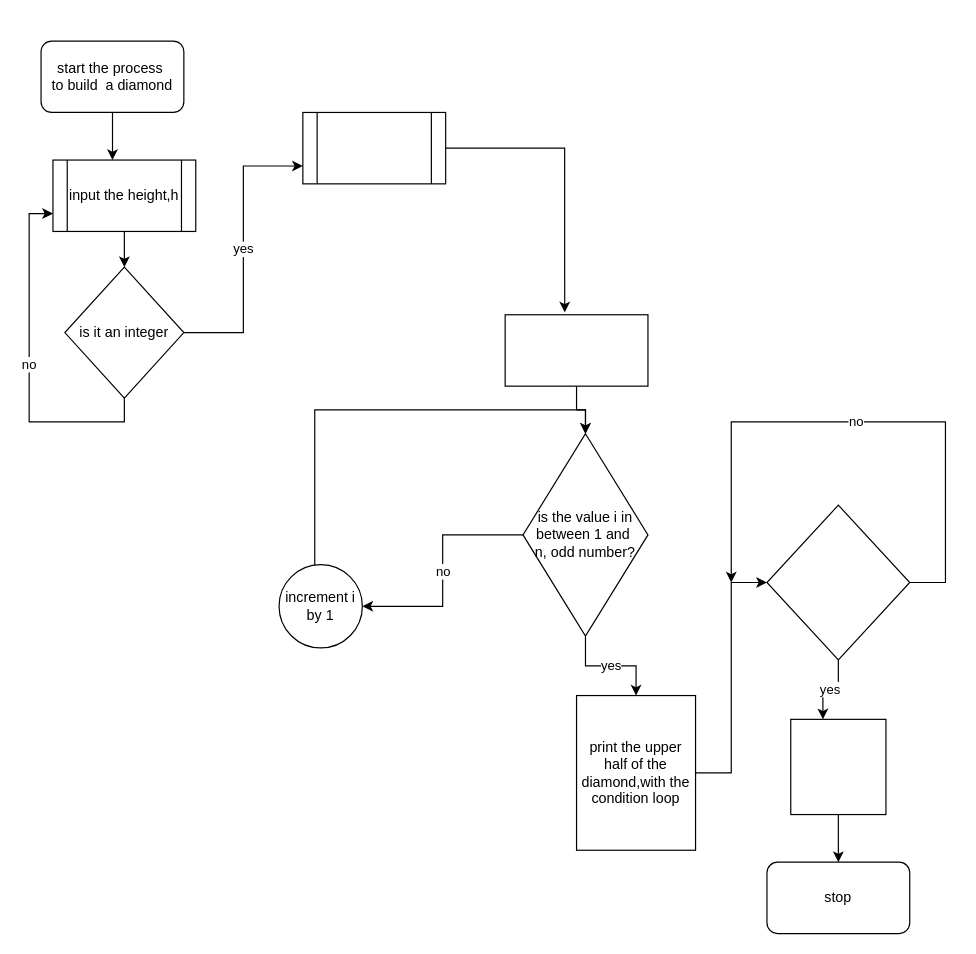
The diagram is 976 pixels wide and 954 high, and some of its shapes have lost their labels. The shapes that lost their labels are listed below. From the top down, each one's centre as x and y in pixels, then its label:
At [374,147]: "input the space as same as height, h =s".
At [576,350]: "increment the height by 1 (n)".
At [838,582]: "is the number ,j between (h-2) and 0 an odd number".
At [838,766]: "print the lower half of the diamond,with the condition loop".
